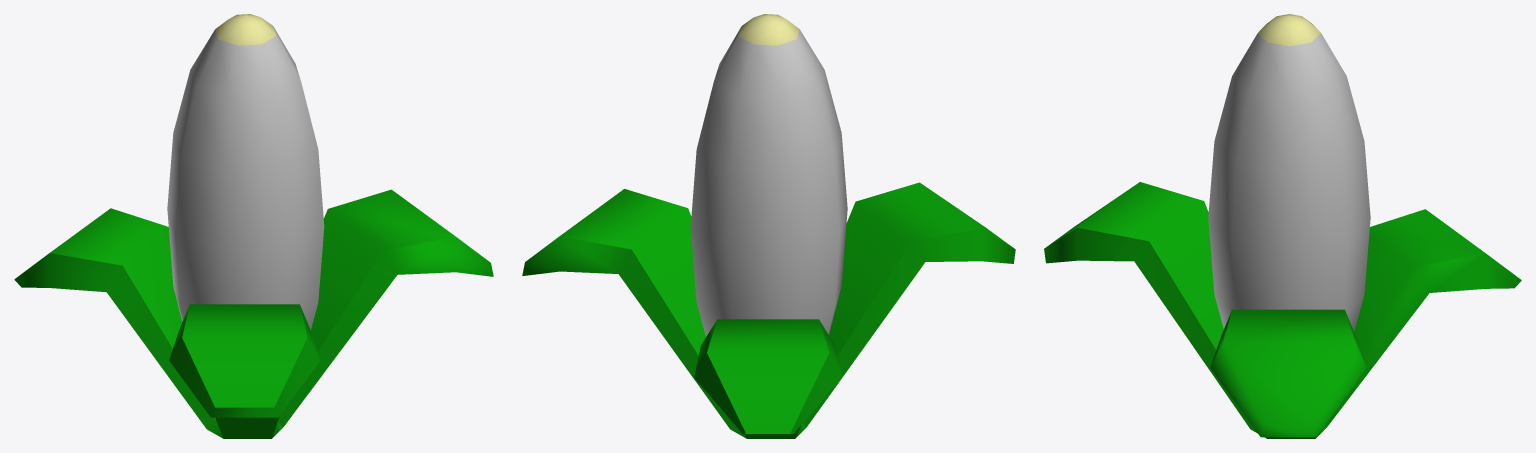
Rendered from sweetcorn.gltf.
3 views of the same model, side by side, from view 1: azimuth 30°, elevation 25°; view 2: azimuth 150°, elevation 25°; view 3: azimuth 270°, elevation 25° (orthographic).
Visible parts, largest first — view 1: sweetcorn; view 2: sweetcorn; view 3: sweetcorn.
Part boxes in pixels (x1=…): sweetcorn: x1=14, y1=14, x2=493, y2=438; sweetcorn: x1=522, y1=14, x2=1015, y2=438; sweetcorn: x1=1044, y1=14, x2=1521, y2=438.
Bounding box in the file's own units: 0.8439 × 0.8745 × 0.9242.
